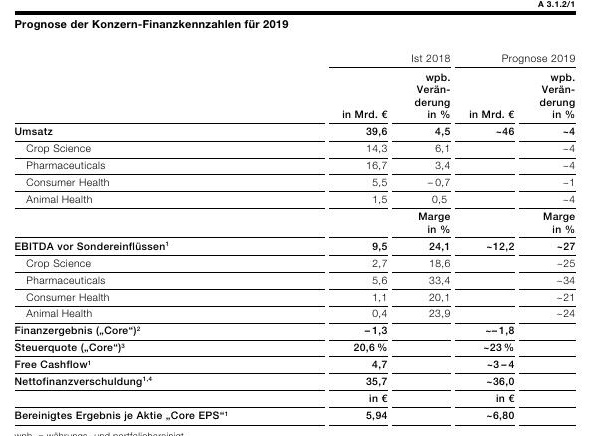table: (0, 0, 592, 436)
